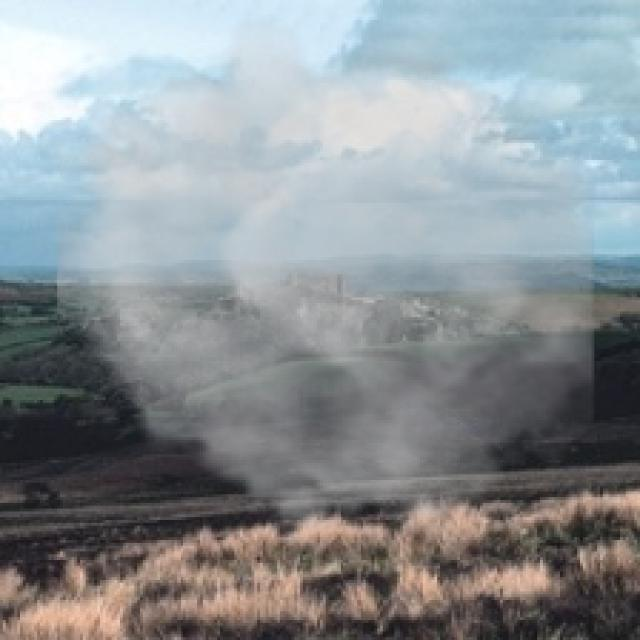smoke: (57, 14, 594, 554)
